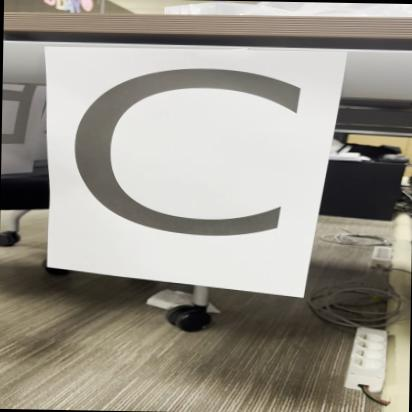seat: (48, 44, 330, 286)
